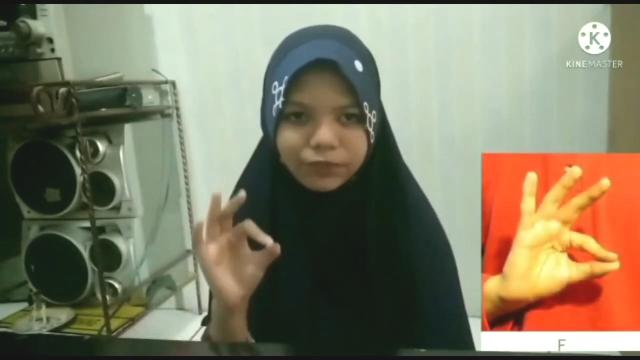F: (497, 164, 623, 314), (188, 190, 284, 296)
